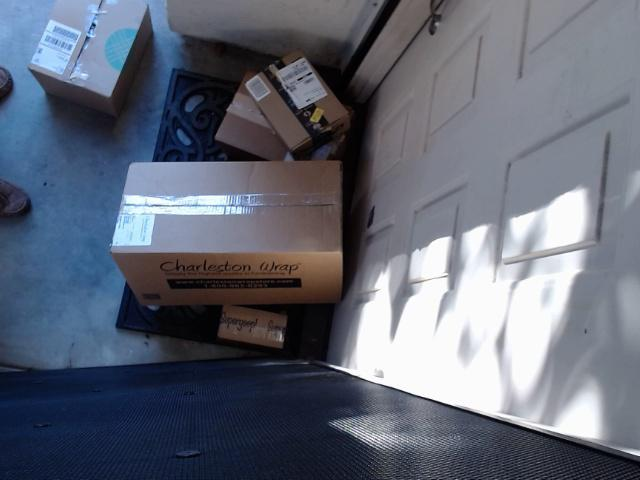box: (102, 155, 362, 323), (208, 45, 368, 167), (18, 0, 151, 112), (238, 57, 342, 146), (191, 292, 304, 365)
